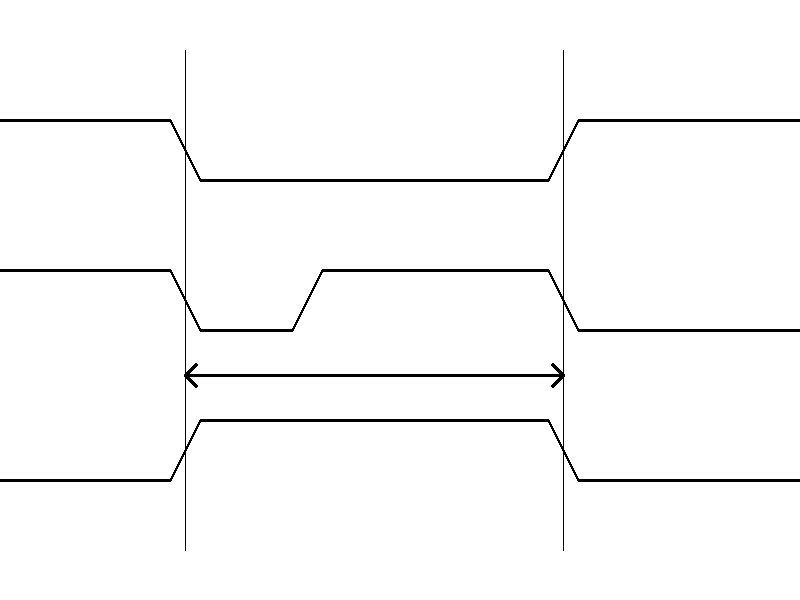double_arrow: (185, 360, 563, 390)
